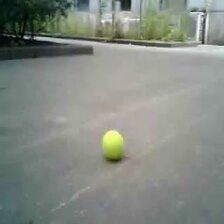tennis: (101, 129, 124, 158)
